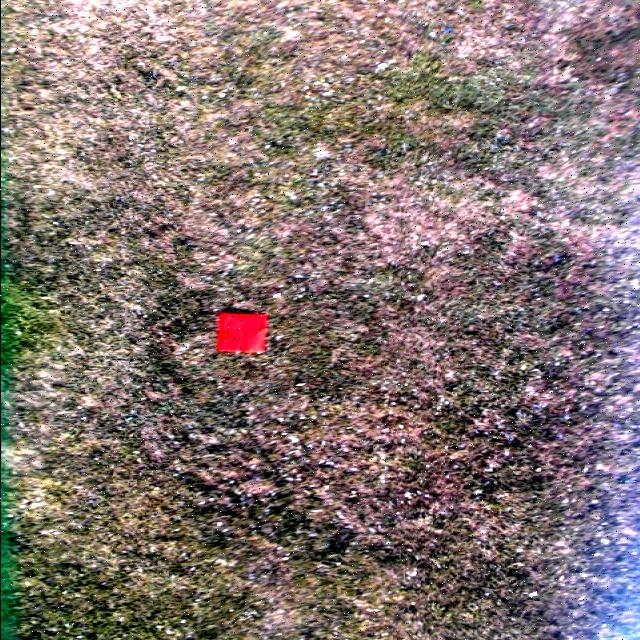red_square: (217, 313, 265, 353)
